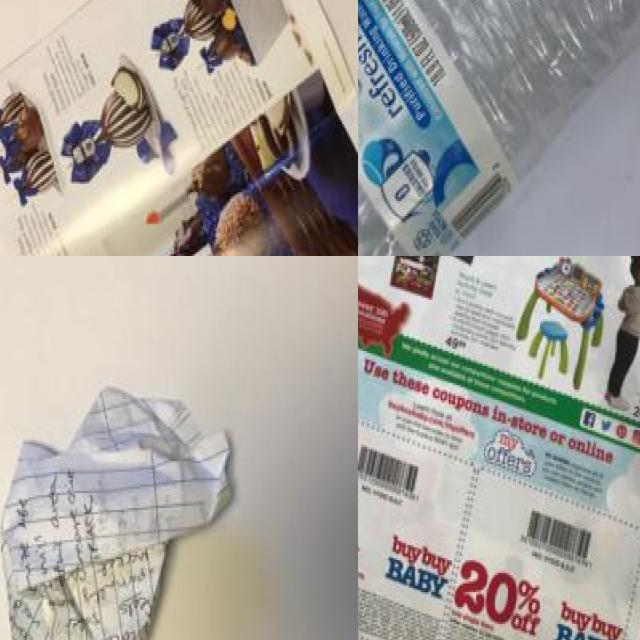paper: (358, 256, 640, 640), (0, 0, 358, 256), (0, 386, 250, 640)
plastic: (358, 0, 640, 256)
